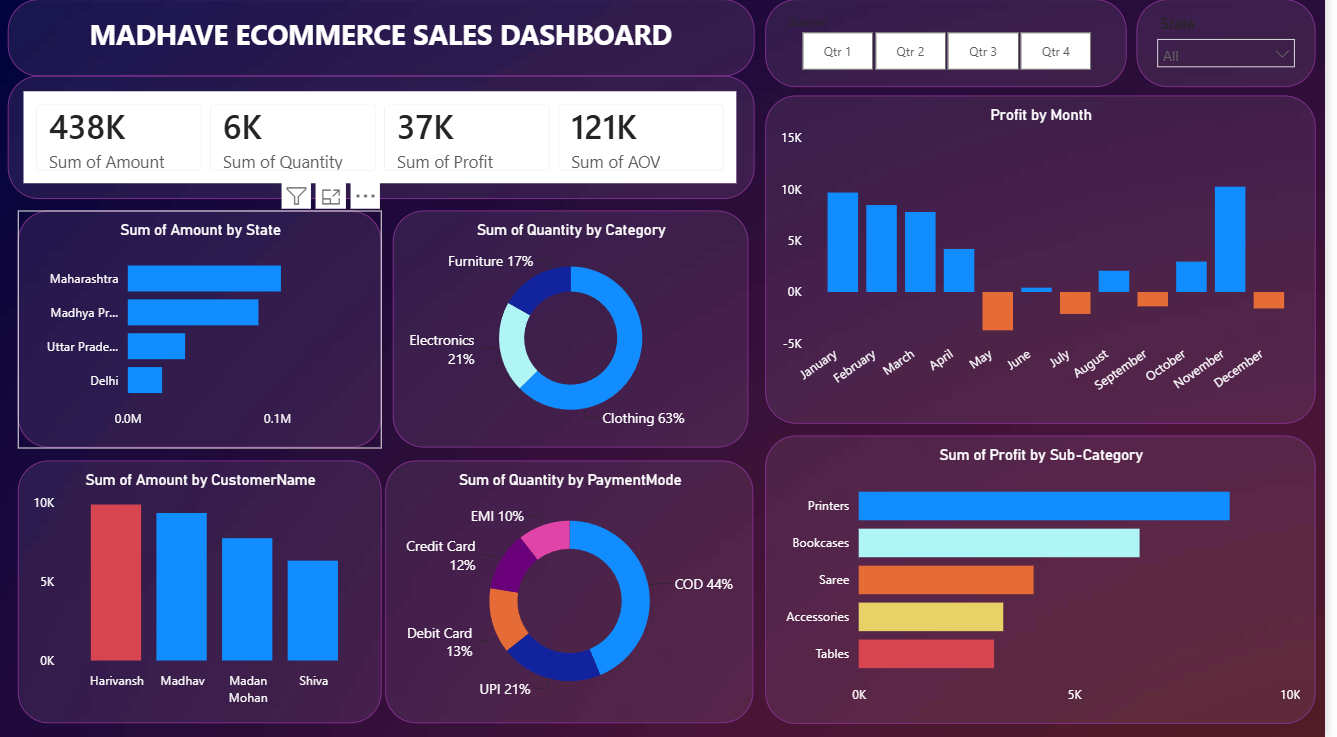

This screenshot's page, from the dashboard's own definition file:
{"tool":"powerbi","page":{"name":"Page 1","canvas":[1280,720],"ordinal":0},"visuals":[{"type":"textbox","box":[8.2,5.5,720.4,74.1],"z":0},{"type":"columnChart","title":"Profit by Month","fields":{"Y":["Sum(Details.Profit)"],"Category":["Orders.Order Date.Variation.Date Hierarchy.Month"]},"box":[739.6,98.8,531,317],"z":1000},{"type":"barChart","fields":{"Y":["Sum(Details.Profit)"],"Category":["Details.Sub-Category"]},"box":[739.6,426.8,531,278.6],"z":2000},{"type":"donutChart","fields":{"Y":["Sum(Details.Quantity)"],"Category":["Details.Category"]},"box":[380.1,209.9,343.1,229.2],"z":3000},{"type":"donutChart","fields":{"Y":["Sum(Details.Quantity)"],"Category":["Details.PaymentMode"]},"box":[373.2,451.5,355.4,253.9],"z":4000},{"type":"cardVisual","fields":{"Data":["Sum(Details.Amount)","Sum(Details.Quantity)","Sum(Details.Profit)","Sum(Details.AOV)"]},"box":[8.2,79.6,720.4,119.4],"z":5000},{"type":"barChart","fields":{"Category":["Orders.State"],"Y":["Sum(Details.Amount)"]},"box":[17.8,209.9,351.3,229.2],"z":6000},{"type":"columnChart","fields":{"Category":["Orders.CustomerName"],"Y":["Sum(Details.Amount)"]},"box":[17.8,451.5,351.3,253.9],"z":7000},{"type":"slicer","fields":{"Values":["Orders.Order Date.Variation.Date Hierarchy.Quarter"]},"box":[739.6,5.5,348.5,85.1],"z":8000},{"type":"slicer","fields":{"Values":["Orders.State"]},"box":[1097.8,5.5,172.9,85.1],"z":9000}]}

Visuals, with their boxes in screenshot pixels (x1, y1, x2, y2), scaled from the page's 1280x720 canvas onto the 1337x737 screenshot:
textbox: BBox(9, 6, 761, 81)
"Profit by Month" columnChart: BBox(773, 101, 1327, 426)
barChart - Sum(Details.Profit) x Details.Sub-Category: BBox(773, 437, 1327, 722)
donutChart - Sum(Details.Quantity) x Details.Category: BBox(397, 215, 755, 449)
donutChart - Sum(Details.Quantity) x Details.PaymentMode: BBox(390, 462, 761, 722)
cardVisual - Sum(Details.Amount) x Sum(Details.Quantity): BBox(9, 81, 761, 204)
barChart - Orders.State x Sum(Details.Amount): BBox(19, 215, 386, 449)
columnChart - Orders.CustomerName x Sum(Details.Amount): BBox(19, 462, 386, 722)
slicer - Orders.Order Date.Variation.Date Hierarchy.Quarter: BBox(773, 6, 1137, 93)
slicer - Orders.State: BBox(1147, 6, 1327, 93)
